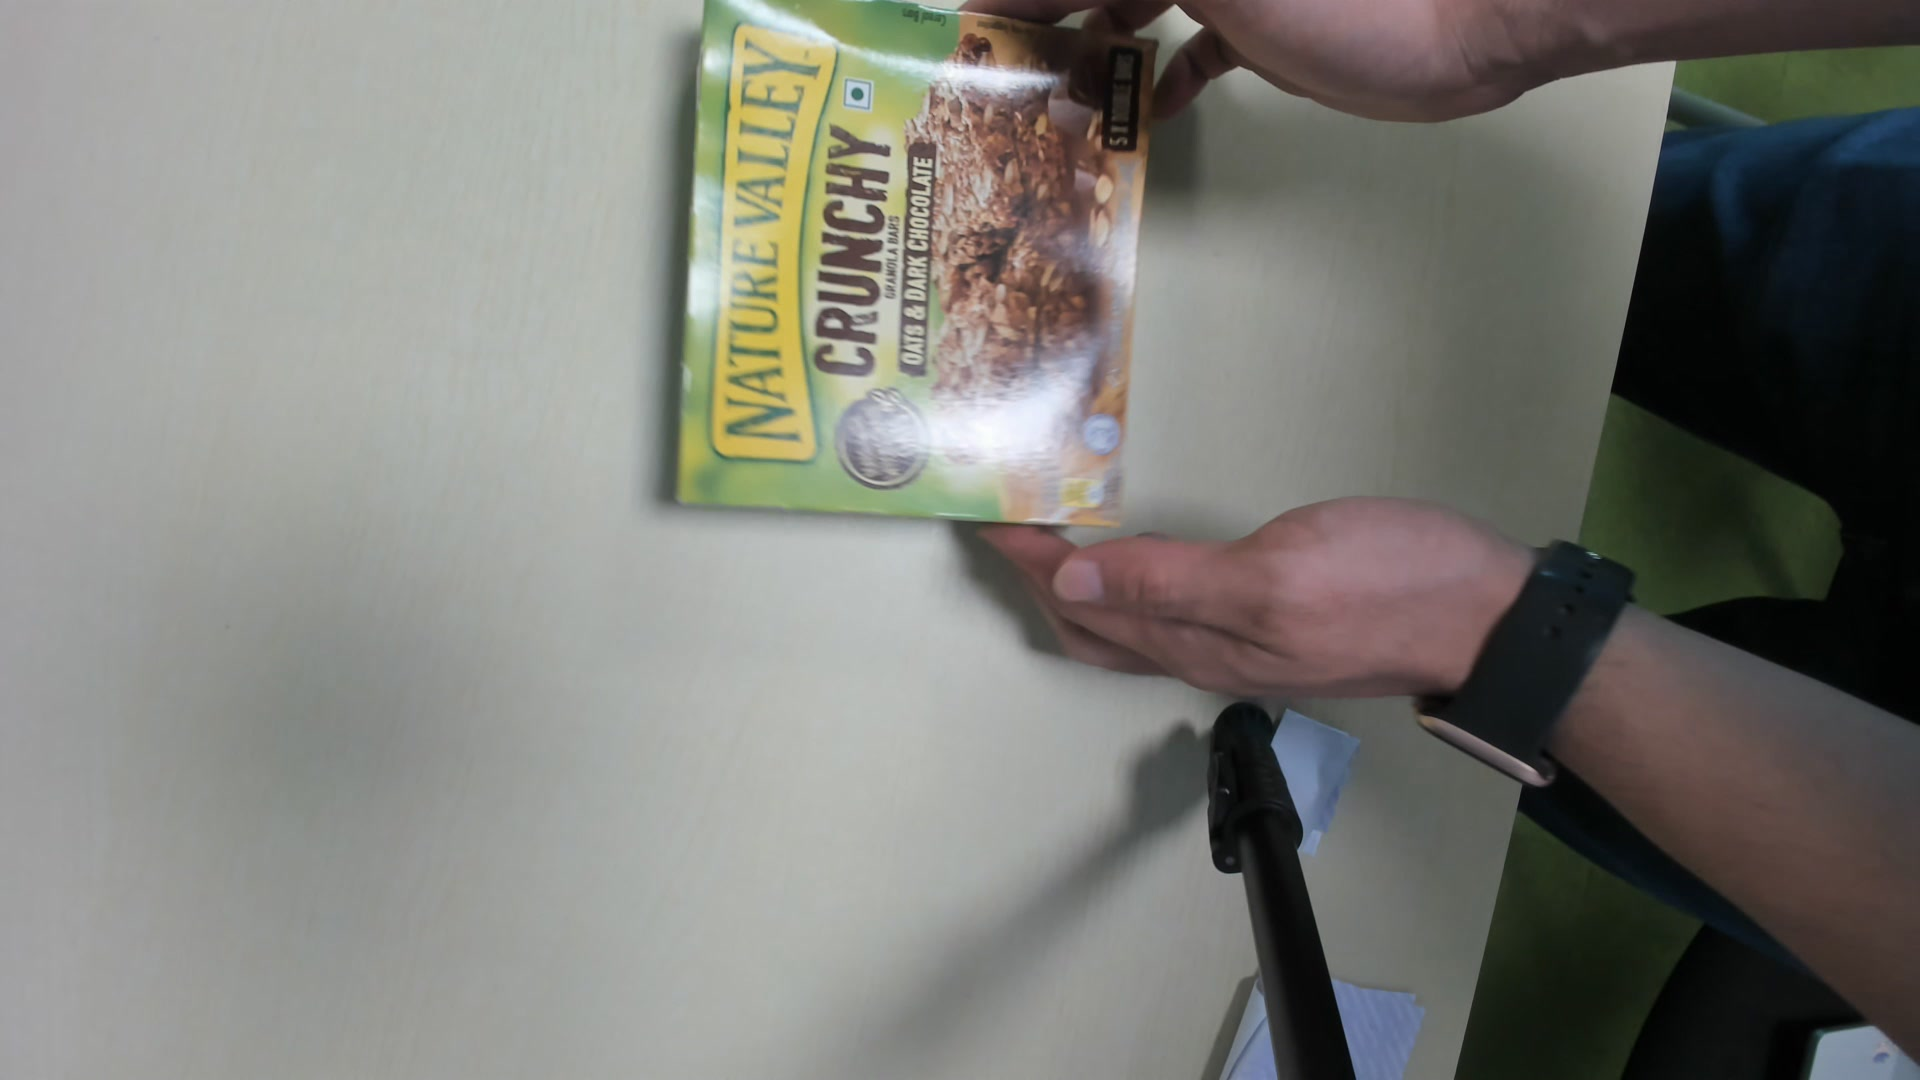SweetsChocolatesOthers_200-299g_Halal_Nonhealthy: (653, 7, 1149, 516)
